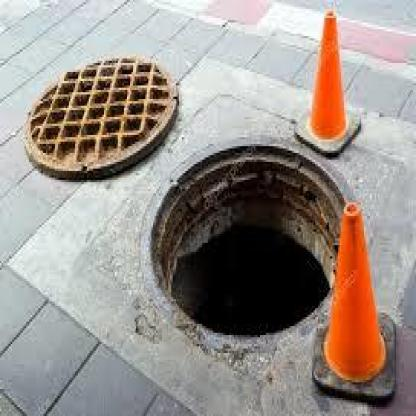manholes: (6, 41, 372, 362)
